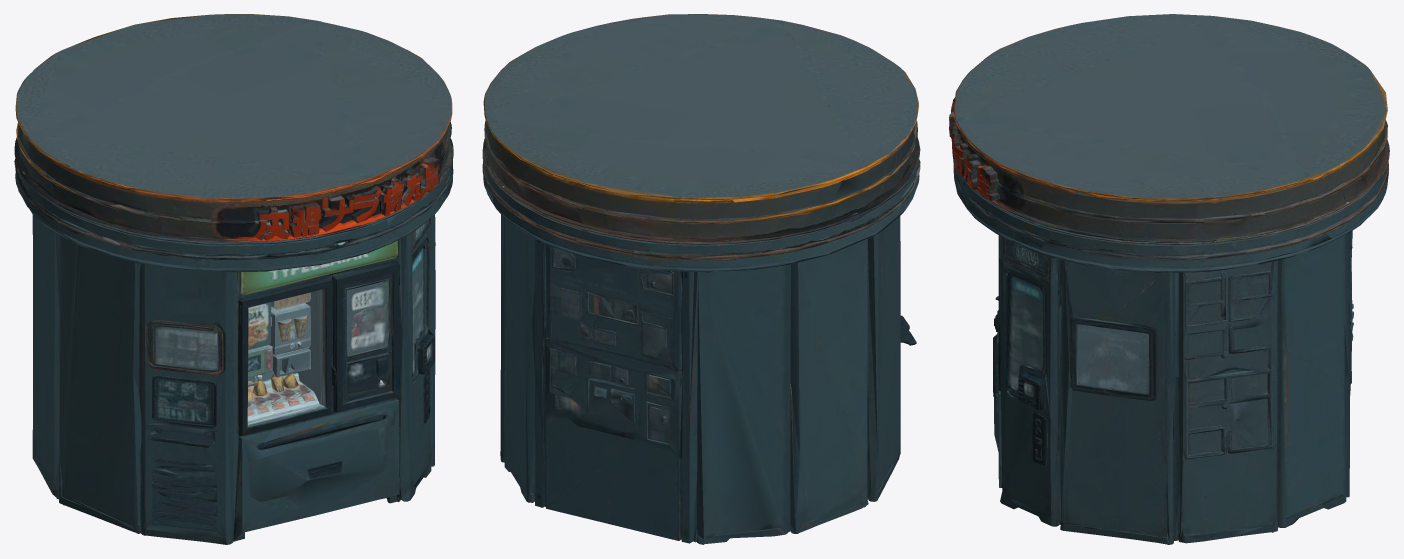
The model's file is mx_vending_kiosk.glb.
The picture shows the model from 3 angles, left to right: view 1: azimuth 30°, elevation 25°; view 2: azimuth 150°, elevation 25°; view 3: azimuth 270°, elevation 25°; orthographic projection.
Bounding box in the file's own units: 1.89 × 1.69 × 1.9.
Materials: 1 (1 with a texture image).
